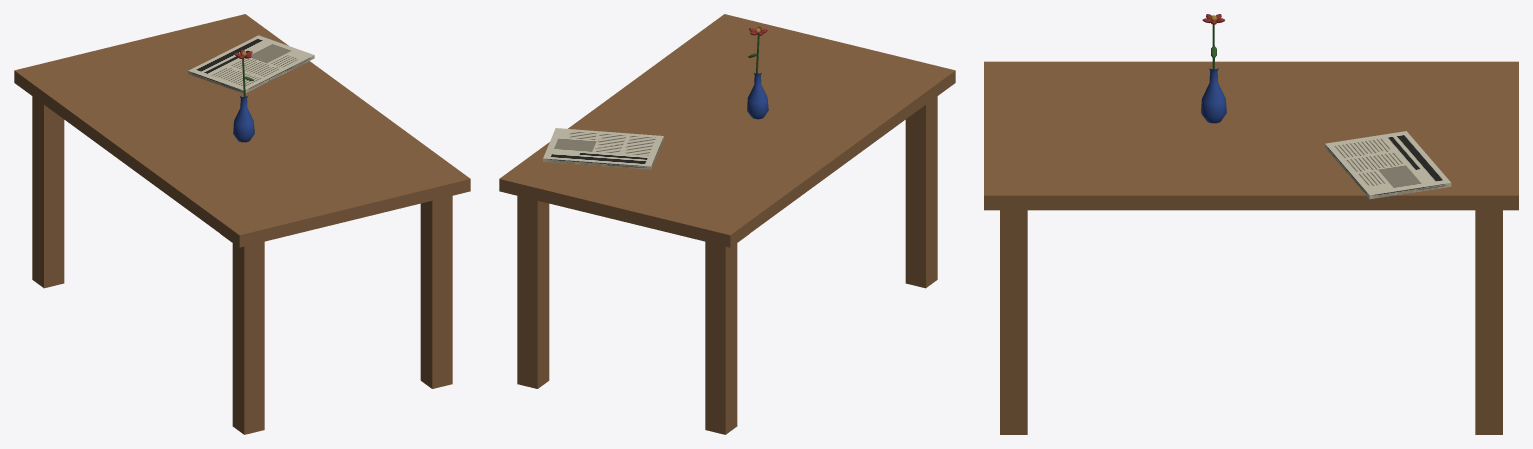
File: dining-table.glb
The picture shows the model from 3 angles, left to right: view 1: azimuth 30°, elevation 25°; view 2: azimuth 150°, elevation 25°; view 3: azimuth 270°, elevation 25°; orthographic projection. The views are drawn at different scales.
Visible parts, largest first — view 1: dining-table, newspaper; view 2: dining-table, newspaper; view 3: dining-table, newspaper.
Part boxes in pixels (box(x1,y1,x2,y2)): dining-table: box(14, 14, 470, 434); newspaper: box(188, 35, 314, 93); dining-table: box(499, 14, 955, 434); newspaper: box(543, 128, 663, 169); dining-table: box(984, 14, 1518, 434); newspaper: box(1325, 131, 1451, 199).
Bounding box in the file's own units: 3 × 3.56 × 4.92.
6 materials, 1 textured.
